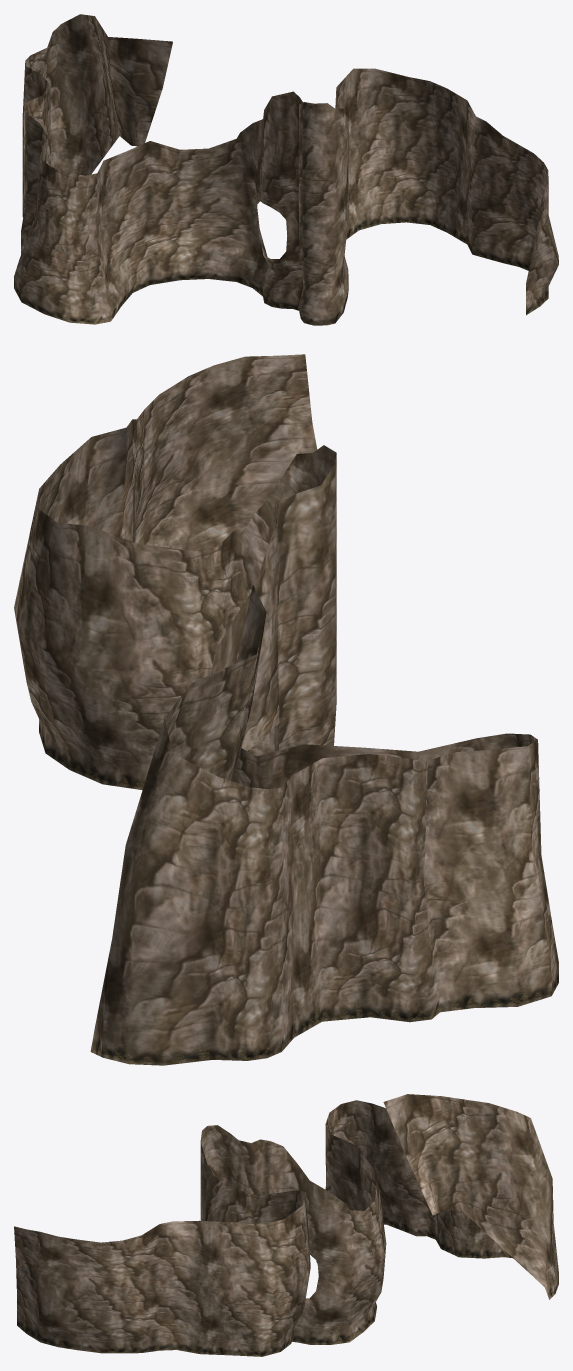
The model's file is OVERHILL_A_01_OBJECT32.fbx.
3 views of the same model, one above another, from view 1: azimuth 30°, elevation 25°; view 2: azimuth 150°, elevation 25°; view 3: azimuth 270°, elevation 25° (orthographic). The views are drawn at different scales.
Parts seen in each view (by area): view 1: OVERHILL_A_01_OBJECT32; view 2: OVERHILL_A_01_OBJECT32; view 3: OVERHILL_A_01_OBJECT32.
Part boxes in pixels (bbox=[...]): OVERHILL_A_01_OBJECT32: bbox=[14, 14, 558, 325]; OVERHILL_A_01_OBJECT32: bbox=[14, 354, 558, 1065]; OVERHILL_A_01_OBJECT32: bbox=[14, 1094, 558, 1356].
Bounding box in the file's own units: 230266 × 137575 × 308368.
Materials: 2 (2 with a texture image).
